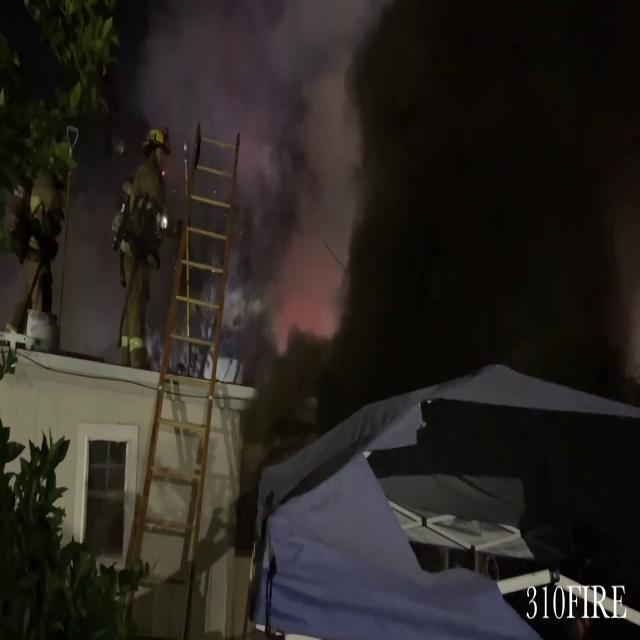Smoke: (138, 0, 398, 342)
